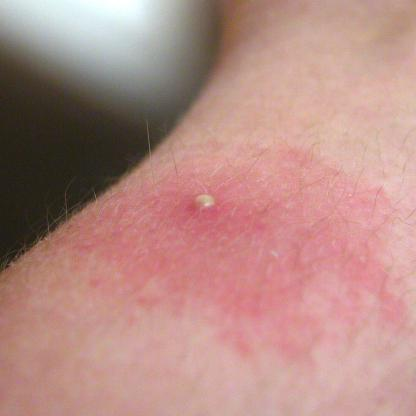Fire ant: (188, 190, 223, 214)
